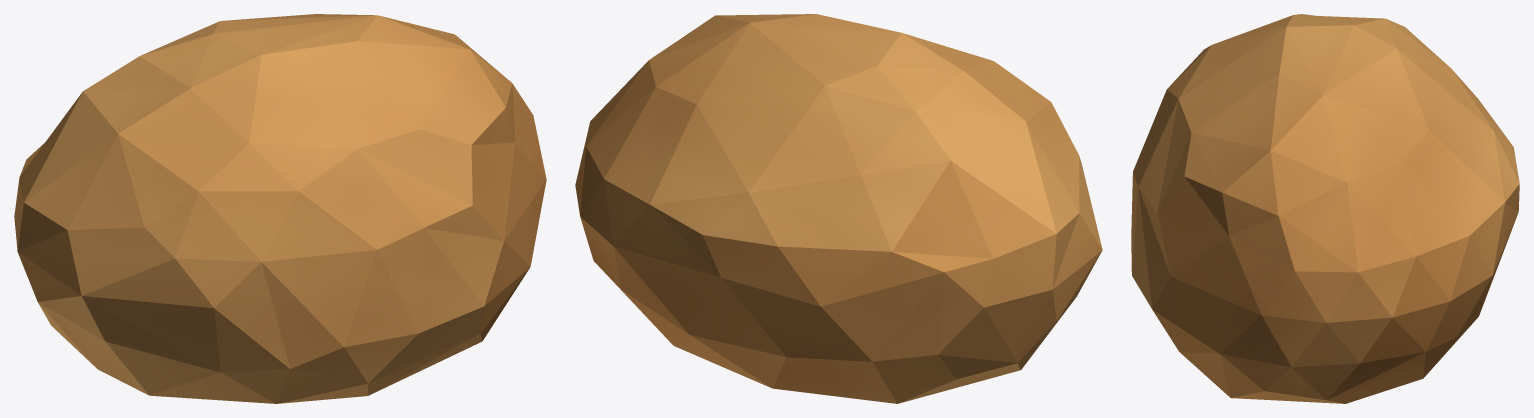
File: FMS_Veg_Potato.fbx
3 views of the same model, side by side, from view 1: azimuth 30°, elevation 25°; view 2: azimuth 150°, elevation 25°; view 3: azimuth 270°, elevation 25° (orthographic). The views are drawn at different scales.
Visible parts, largest first — view 1: Potato; view 2: Potato; view 3: Potato.
Part boxes in pixels (left/top/right/bottom): Potato: left=14, top=14, right=546, bottom=403; Potato: left=575, top=14, right=1102, bottom=403; Potato: left=1131, top=14, right=1519, bottom=403.
Size of the model in its own units: 0.09 by 0.0579 by 0.0675.
